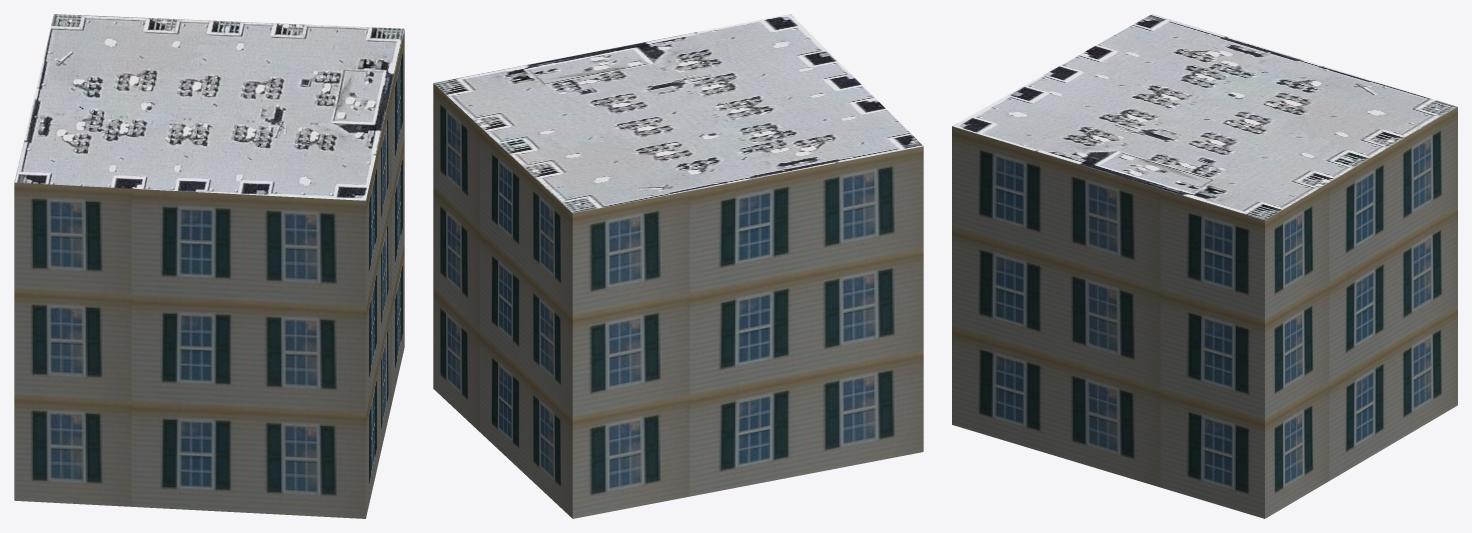
Rendered from ResTex__4623.fbx.
3 renders of one model, left to right at view 1: azimuth 30°, elevation 25°; view 2: azimuth 150°, elevation 25°; view 3: azimuth 270°, elevation 25°, orthographic. The views are drawn at different scales.
Visible parts, largest first — view 1: CityEngineMaterial_7_m, CityEngineMaterial_4_m; view 2: CityEngineMaterial_7_m, CityEngineMaterial_4_m; view 3: CityEngineMaterial_7_m, CityEngineMaterial_4_m.
Boxes of the visible parts, left/top/right/bottom form: CityEngineMaterial_7_m: left=14, top=30, right=404, bottom=518; CityEngineMaterial_4_m: left=14, top=14, right=404, bottom=200; CityEngineMaterial_7_m: left=433, top=83, right=923, bottom=518; CityEngineMaterial_4_m: left=433, top=14, right=923, bottom=213; CityEngineMaterial_7_m: left=952, top=107, right=1457, bottom=518; CityEngineMaterial_4_m: left=952, top=14, right=1457, bottom=220.
Bounding box in the file's own units: 13.34 × 9 × 13.82.
Materials: 2 (2 with a texture image).
